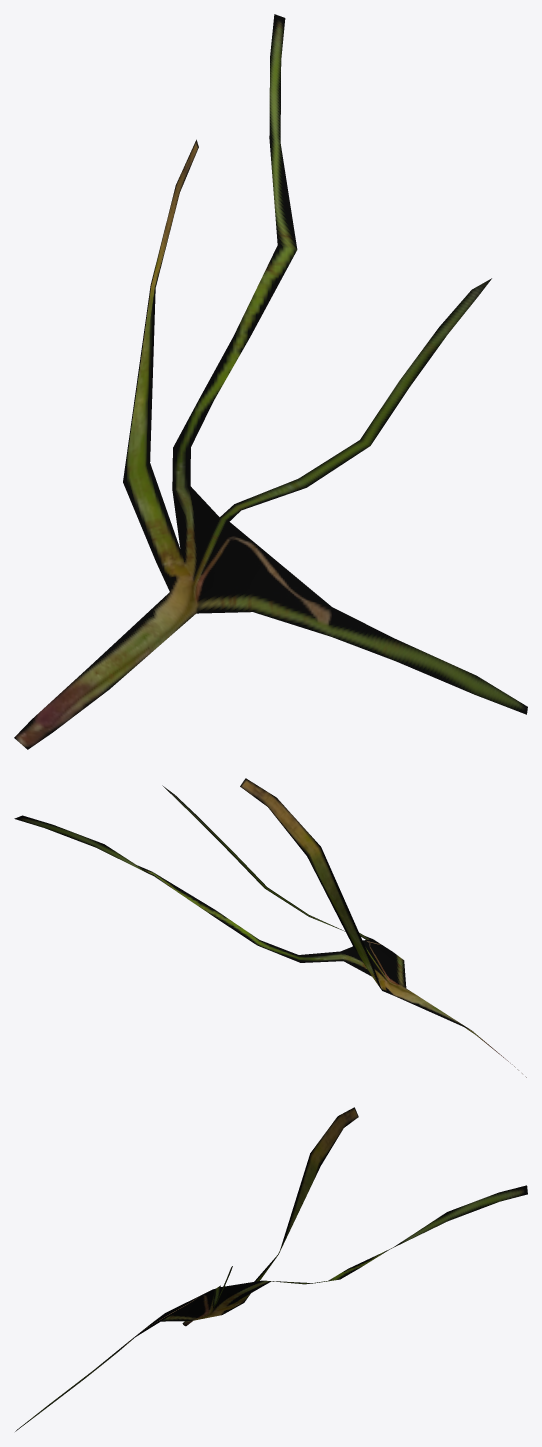
Rendered from grass_medium_01_tiny_f_LOD0.glb.
3 renders of one model, top to bottom at view 1: azimuth 30°, elevation 25°; view 2: azimuth 150°, elevation 25°; view 3: azimuth 270°, elevation 25°, orthographic. The views are drawn at different scales.
Parts seen in each view (by area): view 1: grass_medium_01_tiny_f_LOD0; view 2: grass_medium_01_tiny_f_LOD0; view 3: grass_medium_01_tiny_f_LOD0.
Part boxes in pixels (bbox=[...]): grass_medium_01_tiny_f_LOD0: bbox=[14, 14, 527, 749]; grass_medium_01_tiny_f_LOD0: bbox=[14, 778, 526, 1077]; grass_medium_01_tiny_f_LOD0: bbox=[15, 1107, 527, 1431].
Size of the model in its own units: 0.0552 by 0.0471 by 0.0689.
Materials: 1 (1 with a texture image).
